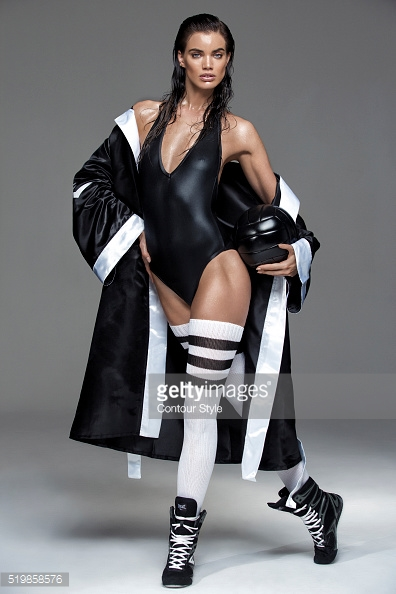em pe: (81, 11, 322, 525)
